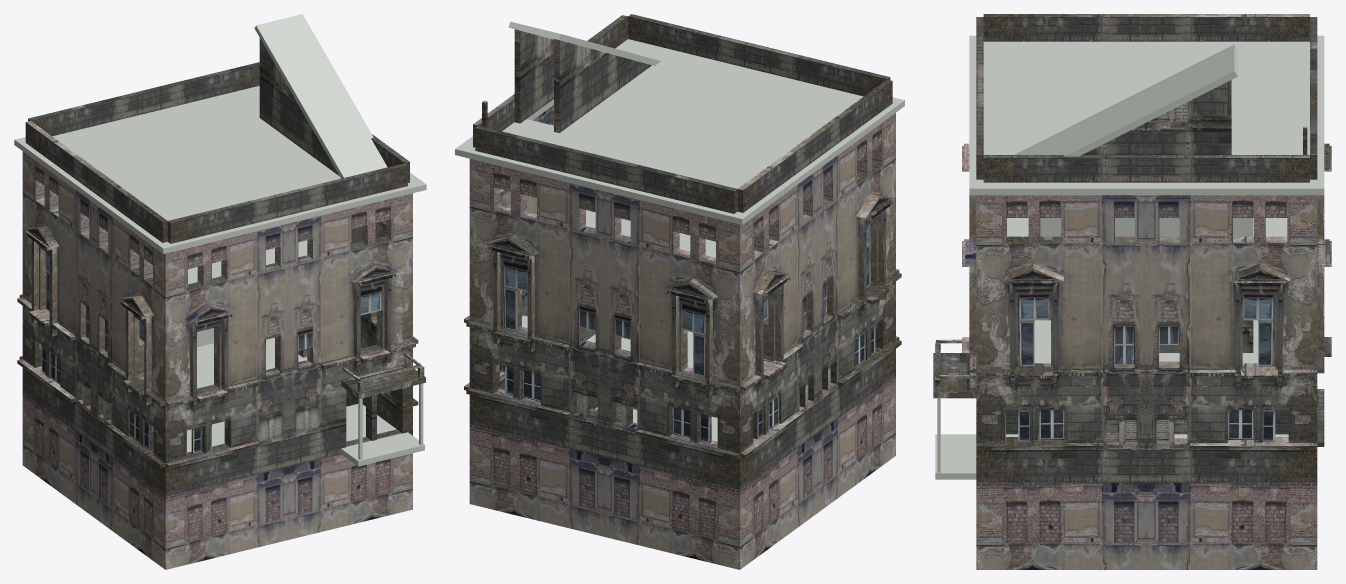
Rendered from BagBuilding1_200.fbx.
3 renders of one model, left to right at view 1: azimuth 30°, elevation 25°; view 2: azimuth 150°, elevation 25°; view 3: azimuth 270°, elevation 25°, orthographic. The views are drawn at different scales.
Visible parts, largest first — view 1: mainA200, floors200, shedroof200, porch200; view 2: mainA200, floors200, shedroof200; view 3: mainA200, floors200, shedroof200, porch200, innerwalla200.
Part boxes in pixels (x1,y1,x2,y2): mainA200: (17,38,425,569); floors200: (14,86,426,452); shedroof200: (254,14,387,178); porch200: (341,383,424,466); mainA200: (464,14,901,569); floors200: (455,39,904,441); shedroof200: (508,21,660,65); mainA200: (933,14,1331,569); floors200: (969,35,1324,438); shedroof200: (1015,44,1238,156); porch200: (935,398,976,479); innerwalla200: (1040,218,1253,236).
Size of the model in its own units: 15.92 by 23.64 by 17.16.
